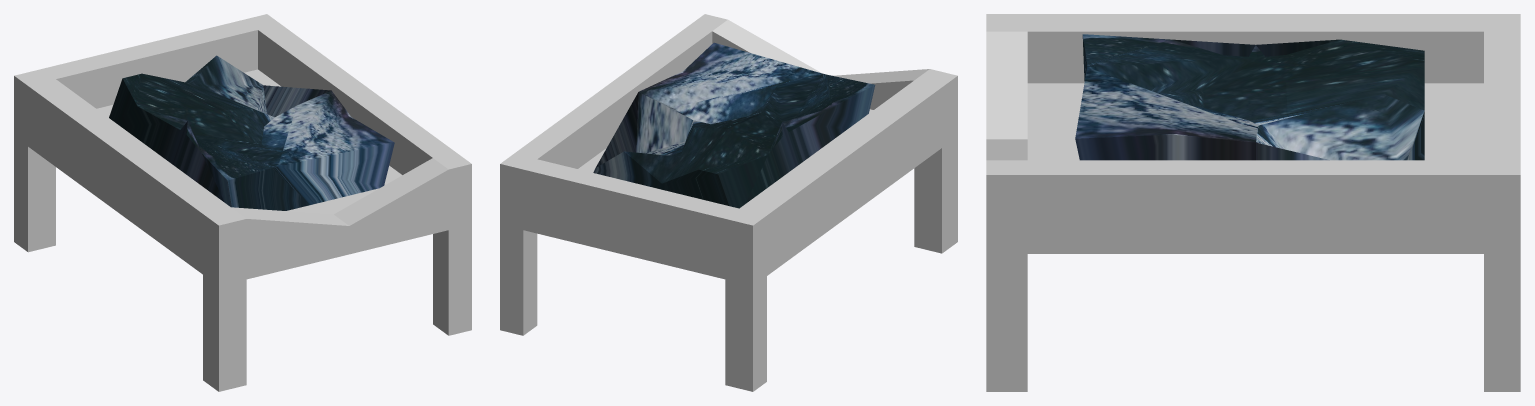
The model's file is coalheater.glb.
3 renders of one model, left to right at view 1: azimuth 30°, elevation 25°; view 2: azimuth 150°, elevation 25°; view 3: azimuth 270°, elevation 25°, orthographic. The views are drawn at different scales.
Visible parts, largest first — view 1: Cube; view 2: Cube; view 3: Cube.
Part boxes in pixels (left/top/right/bottom): Cube: left=14, top=14, right=471, bottom=391; Cube: left=500, top=14, right=957, bottom=391; Cube: left=986, top=14, right=1520, bottom=391.
Size of the model in its own units: 5.01 by 3.37 by 7.02.
Materials: 2 (1 with a texture image).
